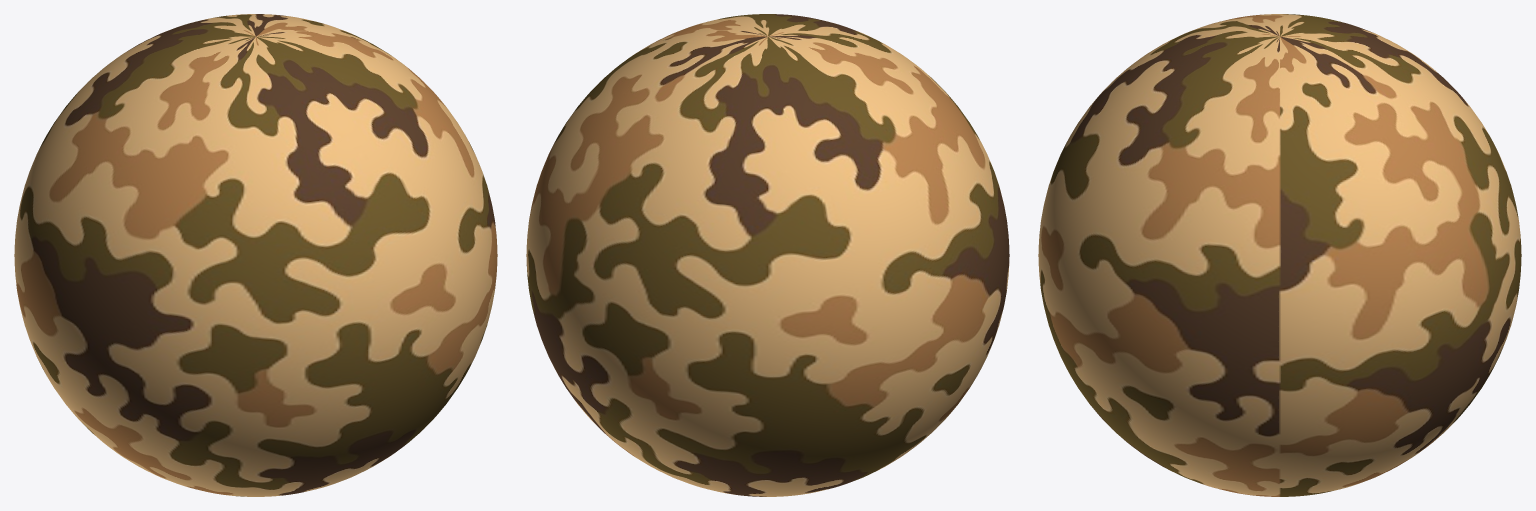
File: coonball.obj
3 renders of one model, left to right at view 1: azimuth 30°, elevation 25°; view 2: azimuth 150°, elevation 25°; view 3: azimuth 270°, elevation 25°, orthographic.
Visible parts, largest first — view 1: Kugel; view 2: Kugel; view 3: Kugel.
Part boxes in pixels (x1,y1,x2,y2): Kugel: [14, 14, 497, 496]; Kugel: [526, 14, 1009, 496]; Kugel: [1038, 14, 1521, 496].
Bounding box in the file's own units: 32.12 × 32.12 × 32.12.
Materials: 1 (1 with a texture image).
